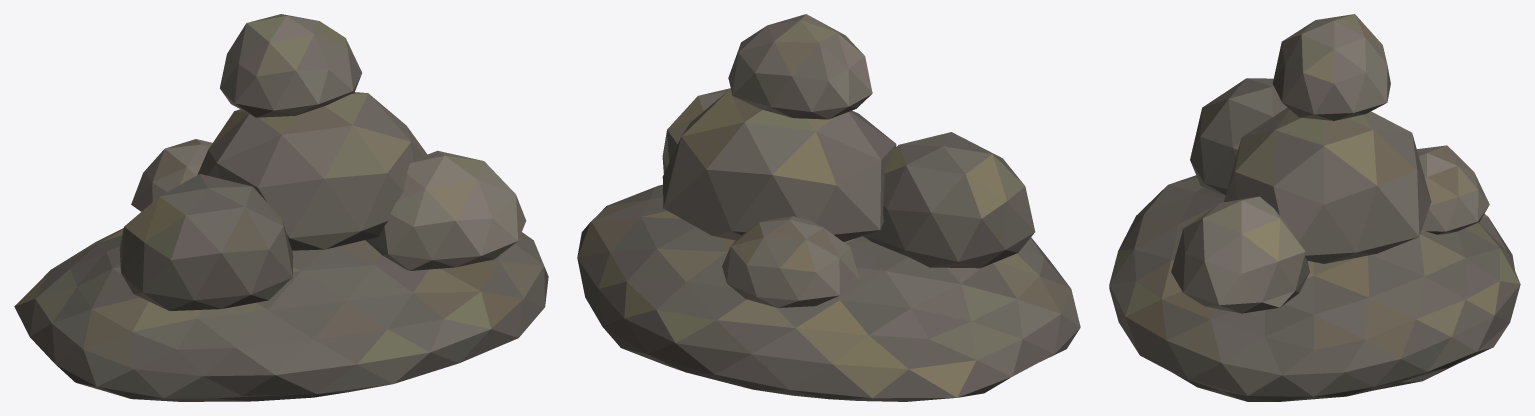
The model's file is env_kopje.glb.
3 views of the same model, side by side, from view 1: azimuth 30°, elevation 25°; view 2: azimuth 150°, elevation 25°; view 3: azimuth 270°, elevation 25° (orthographic). The views are drawn at different scales.
Parts seen in each view (by area): view 1: env_kopje; view 2: env_kopje; view 3: env_kopje.
Boxes of the visible parts, box(x1,y1,x2,y2) form: env_kopje: box(14, 14, 548, 401); env_kopje: box(577, 14, 1080, 401); env_kopje: box(1109, 14, 1520, 401).
Bounding box in the file's own units: 10.07 × 6.47 × 7.99.
